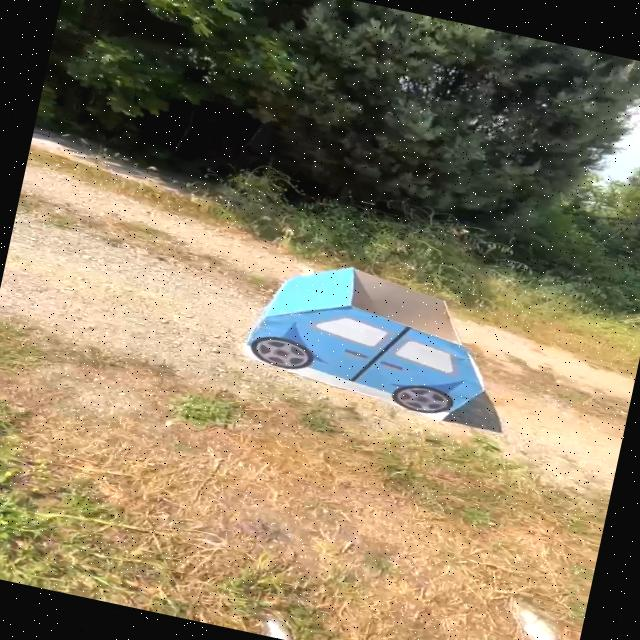blue_car: (208, 236, 518, 448)
